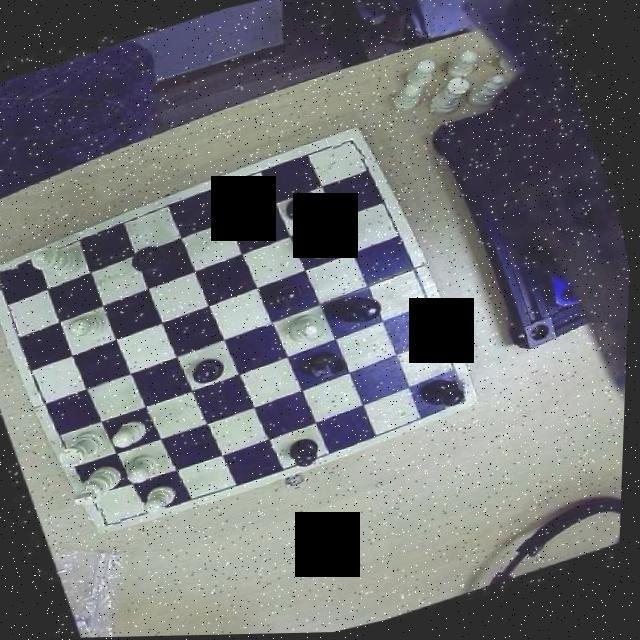chess-table-corners: (328, 130, 371, 172), (438, 376, 480, 418), (92, 503, 130, 538), (0, 257, 26, 296)
